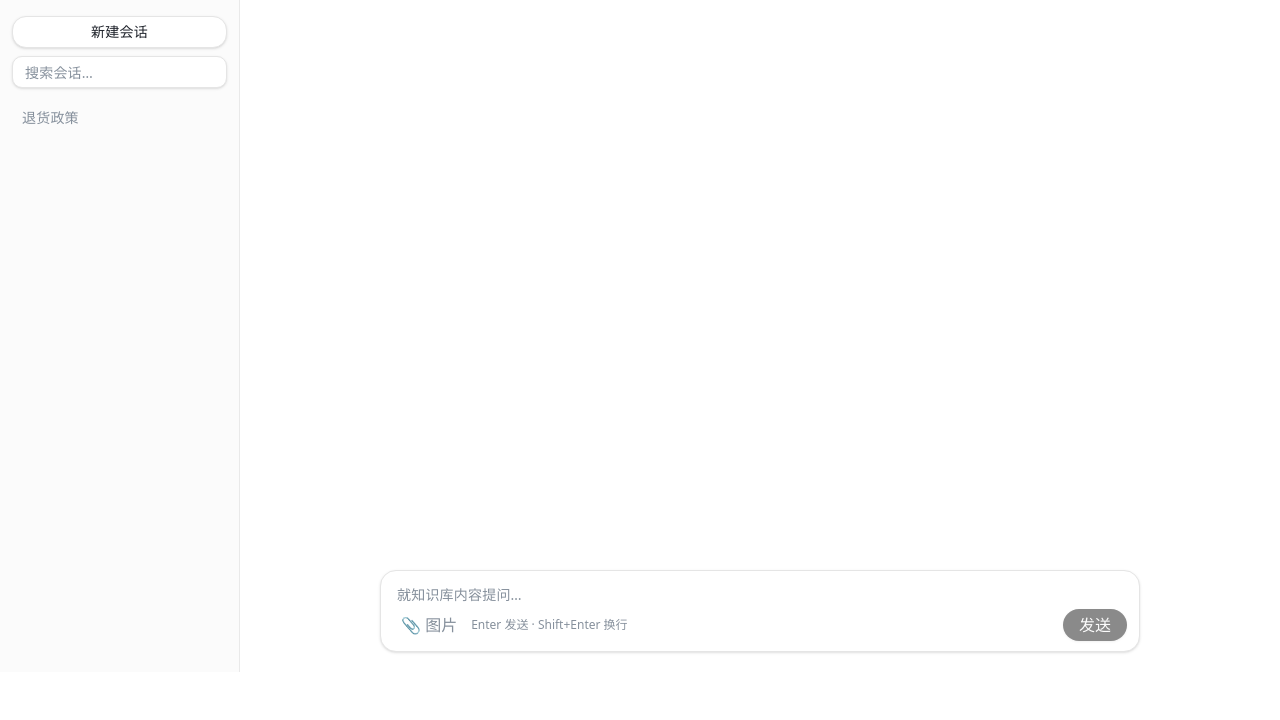
Test: 引用角标只显示序号，文档名不做可见文本
In the text box labelled "提问": (760,588) [381,571,1139,605], type "售后多久响应？"
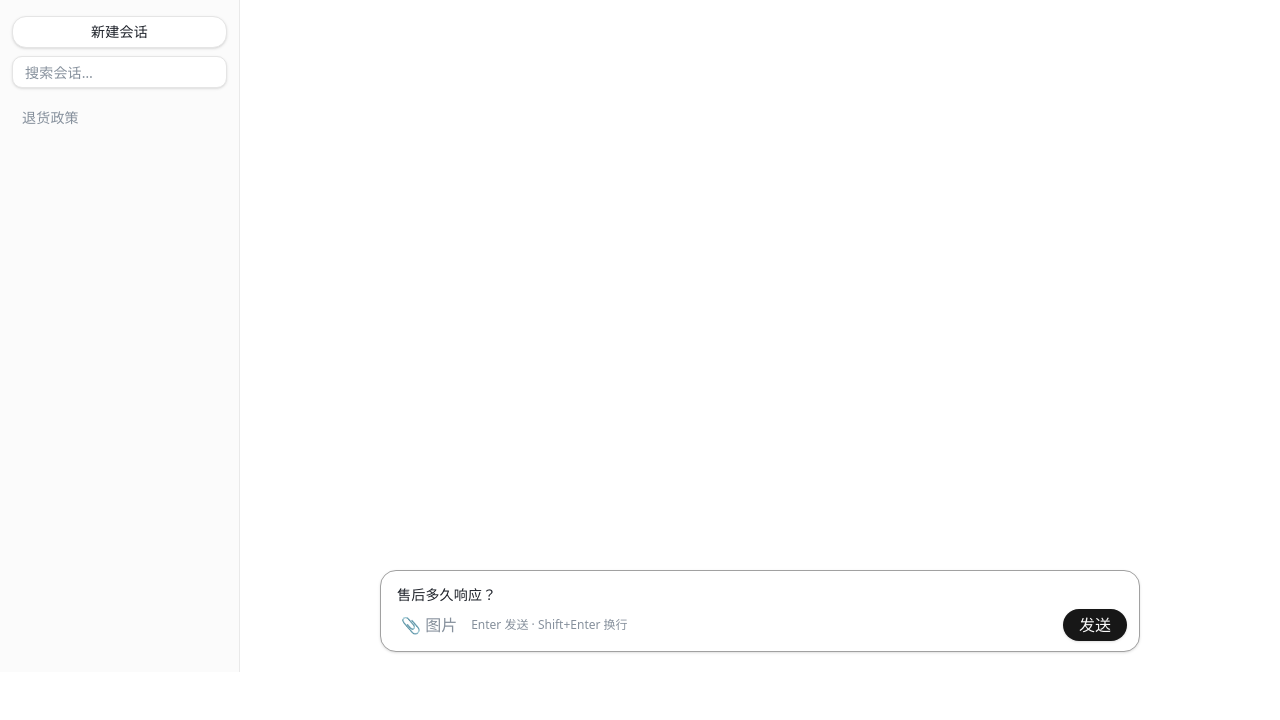
Click the button "发送": (1095,625) [1063,609,1127,641]
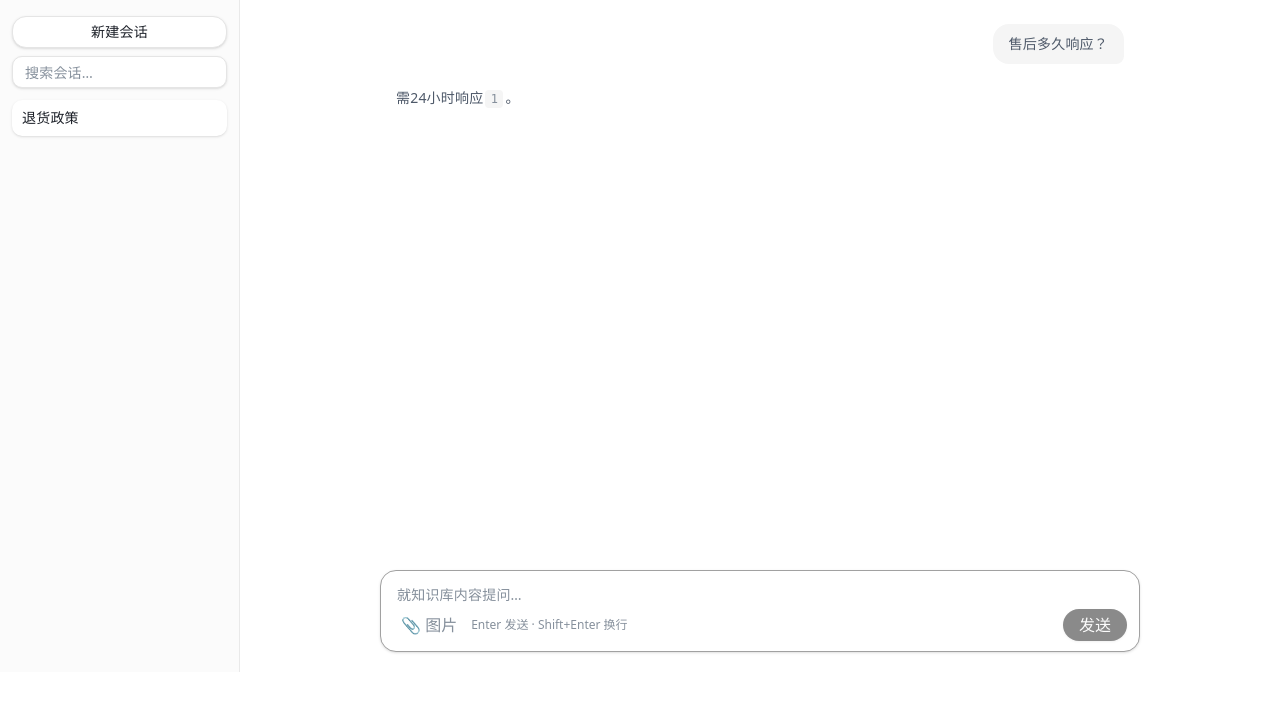
Result: the button named "引用 1：运营手册.txt" reads "1" at [485,90,503,108]
